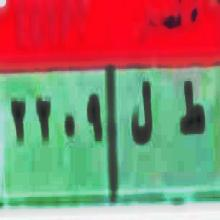0: (60, 102, 78, 154)
2: (33, 90, 56, 152), (10, 94, 30, 146)
9: (86, 87, 106, 151)
Taa: (173, 81, 206, 140)
laam: (129, 79, 155, 150)
